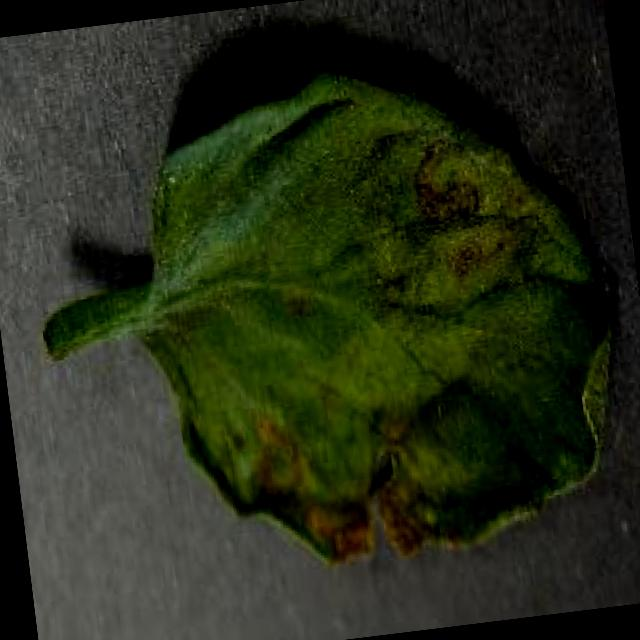bacterial spot: (47, 69, 617, 570)
